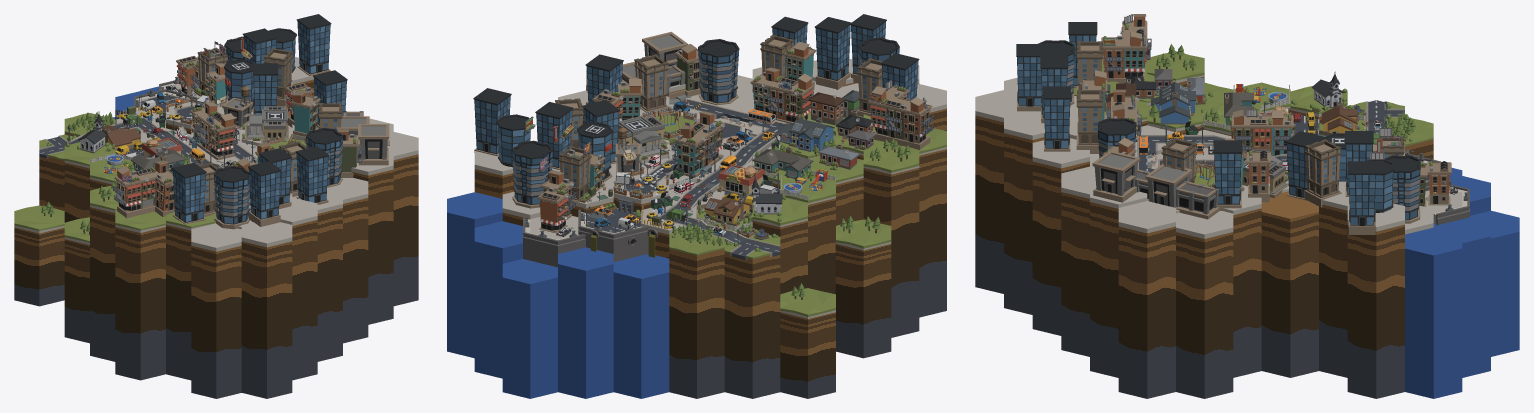
File: mini.glb
3 renders of one model, left to right at view 1: azimuth 30°, elevation 25°; view 2: azimuth 150°, elevation 25°; view 3: azimuth 270°, elevation 25°, orthographic. The views are drawn at different scales.
Visible parts, largest first — view 1: Object_4, Object_3, Object_2, Object_8; view 2: Object_4, Object_3, Object_8, Object_2; view 3: Object_4, Object_3, Object_8, Object_2.
Part boxes in pixels (x1,y1,x2,y2): Object_4: (14,47,418,398); Object_3: (78,14,389,234); Object_2: (41,37,306,233); Object_8: (113,86,158,118); Object_4: (474,14,946,398); Object_3: (473,31,927,246); Object_8: (447,192,669,398); Object_2: (523,93,910,299); Object_4: (975,14,1462,398); Object_3: (1068,14,1451,234); Object_8: (1405,168,1519,398); Object_2: (1138,44,1469,225).
Bounding box in the file's own units: 36.22 × 22.65 × 47.5.
7 materials, 7 textured.
